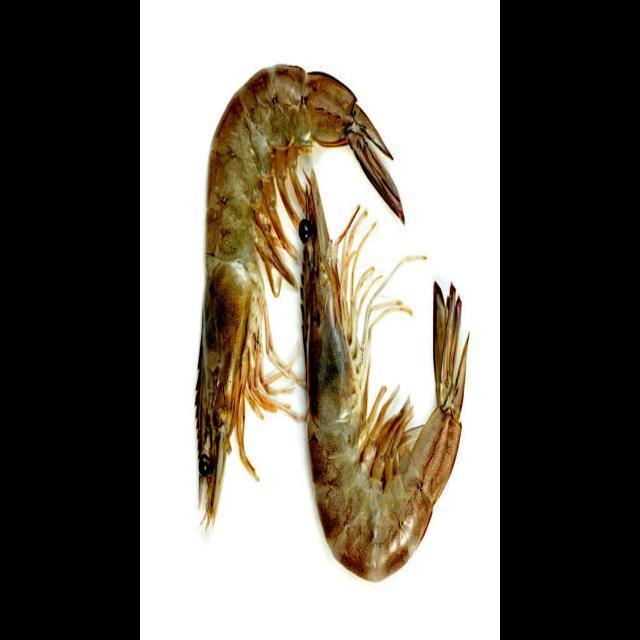shrimp: (196, 65, 403, 521), (301, 171, 467, 580)
